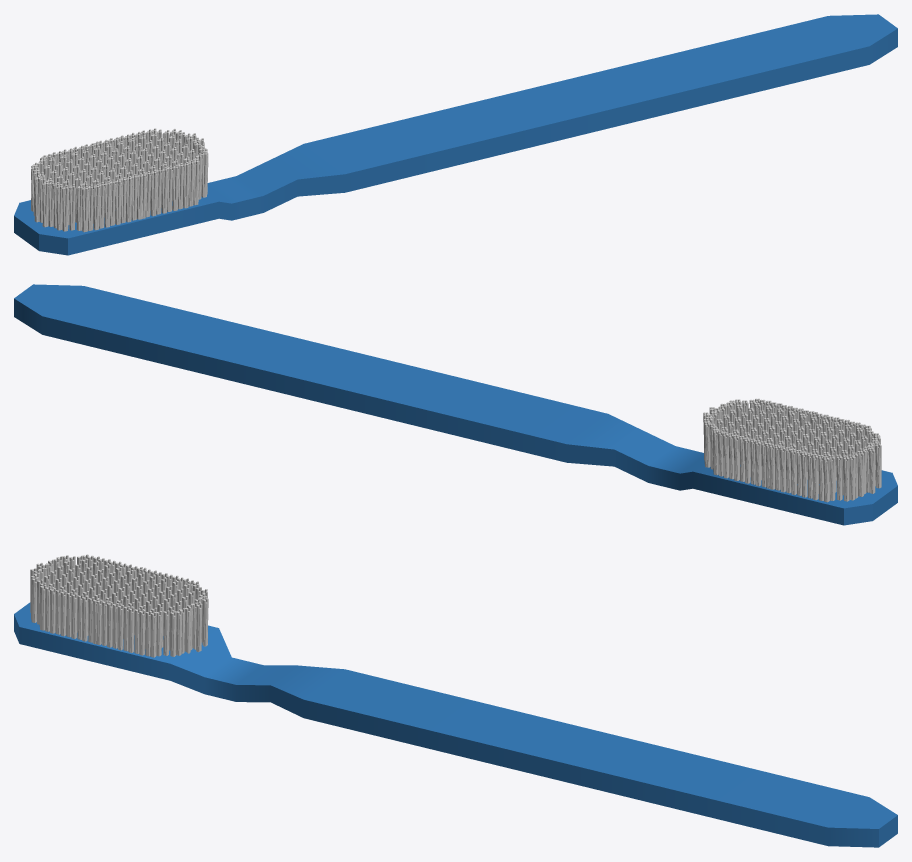
3 views of the same model, one above another, from view 1: azimuth 30°, elevation 25°; view 2: azimuth 150°, elevation 25°; view 3: azimuth 330°, elevation 25° (orthographic).
Parts seen in each view (by area): view 1: Cube; view 2: Cube; view 3: Cube.
Boxes of the visible parts, x1,y1,x2,y2 form: Cube: (14, 14, 897, 255); Cube: (14, 284, 897, 525); Cube: (14, 602, 897, 847).
Bounding box in the file's own units: 400 × 34.07 × 39.14.
